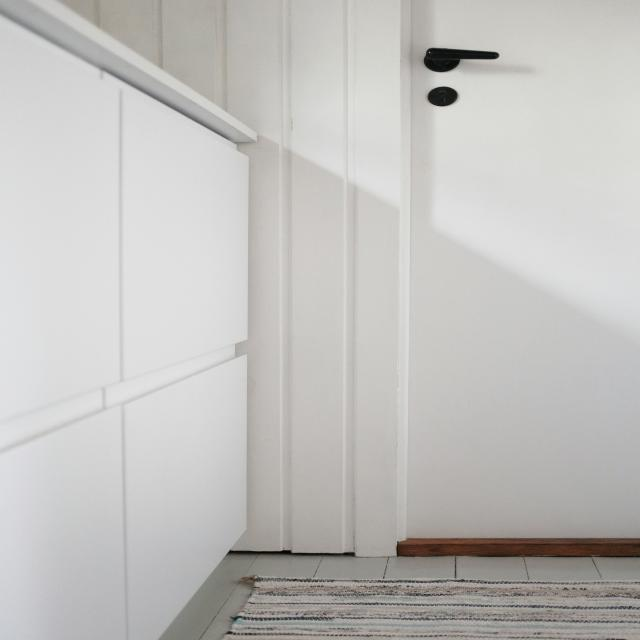door-handle: (424, 48, 499, 72)
